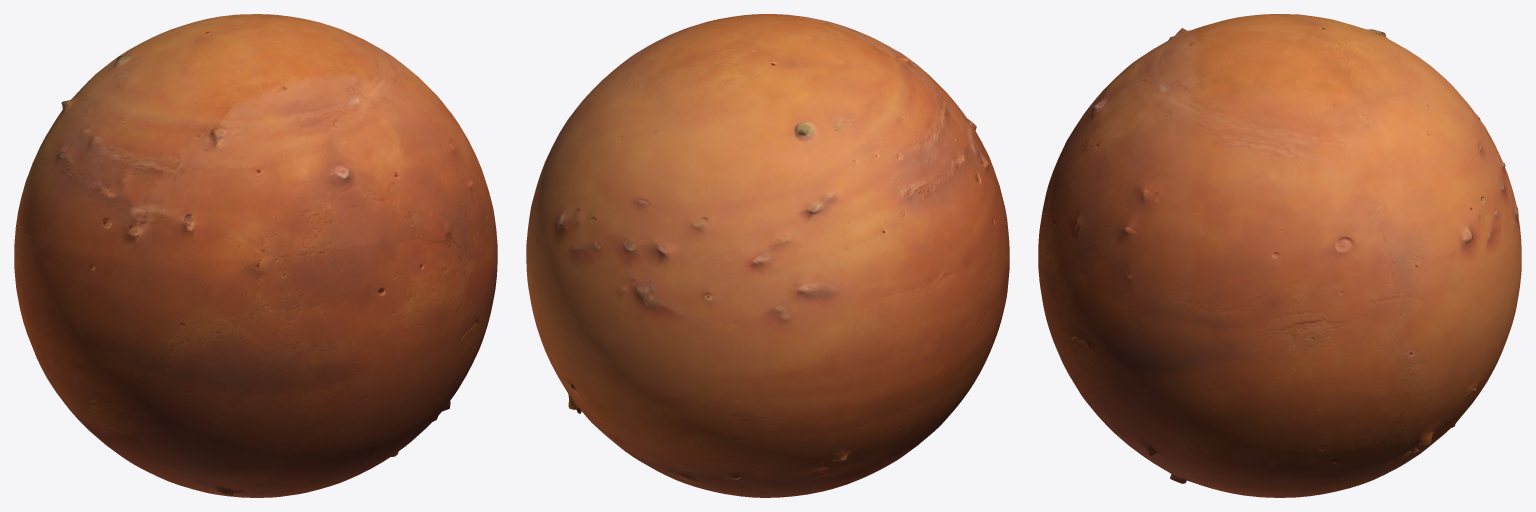
Rendered from desert_planet_5.glb.
The picture shows the model from 3 angles, left to right: view 1: azimuth 30°, elevation 25°; view 2: azimuth 150°, elevation 25°; view 3: azimuth 270°, elevation 25°; orthographic projection.
Visible parts, largest first — view 1: Mesh_0.012; view 2: Mesh_0.012; view 3: Mesh_0.012.
Boxes of the visible parts, <box> form: Mesh_0.012: <box>14,14,497,497</box>; Mesh_0.012: <box>526,14,1009,497</box>; Mesh_0.012: <box>1038,14,1521,497</box>.
Bounding box in the file's own units: 2 × 2 × 2.
Materials: 1 (1 with a texture image).
